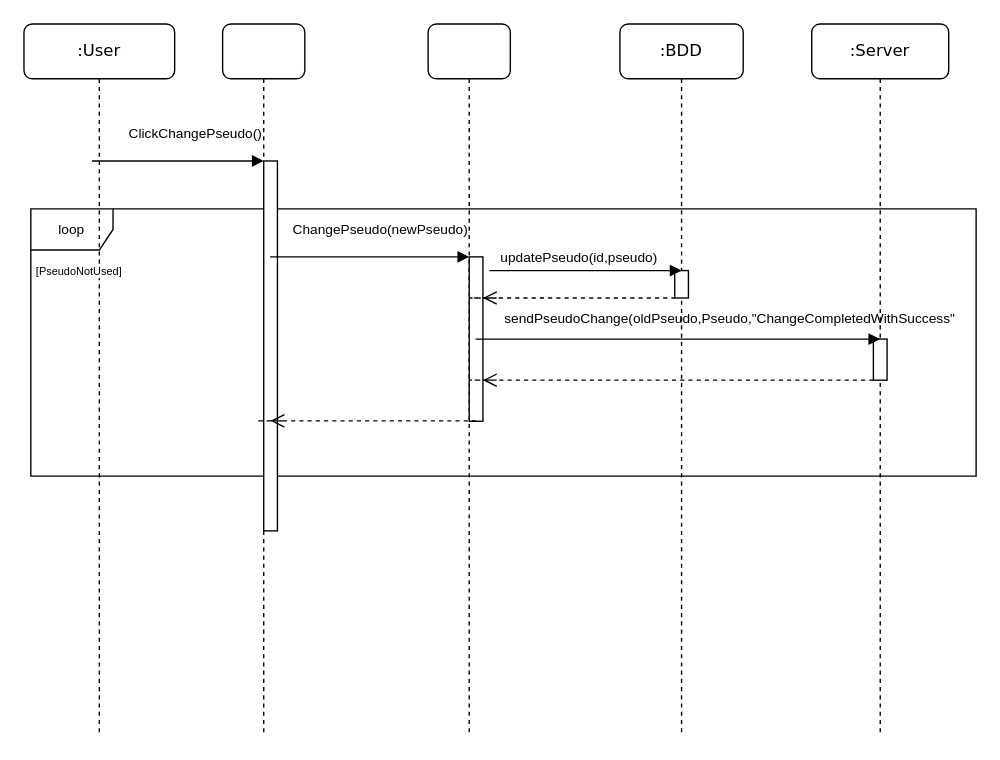
Some shapes in this 1000 by 760 pixel diagram are drawn without their labels. Each missing label, with the centre of its shape:
:Agent: the point at 468,379
:Interface: the point at 263,379
